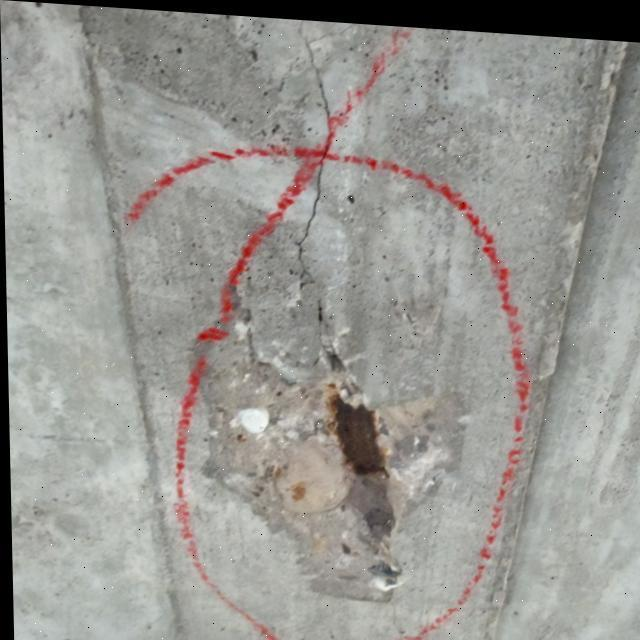D0w0: (114, 22, 571, 633)
